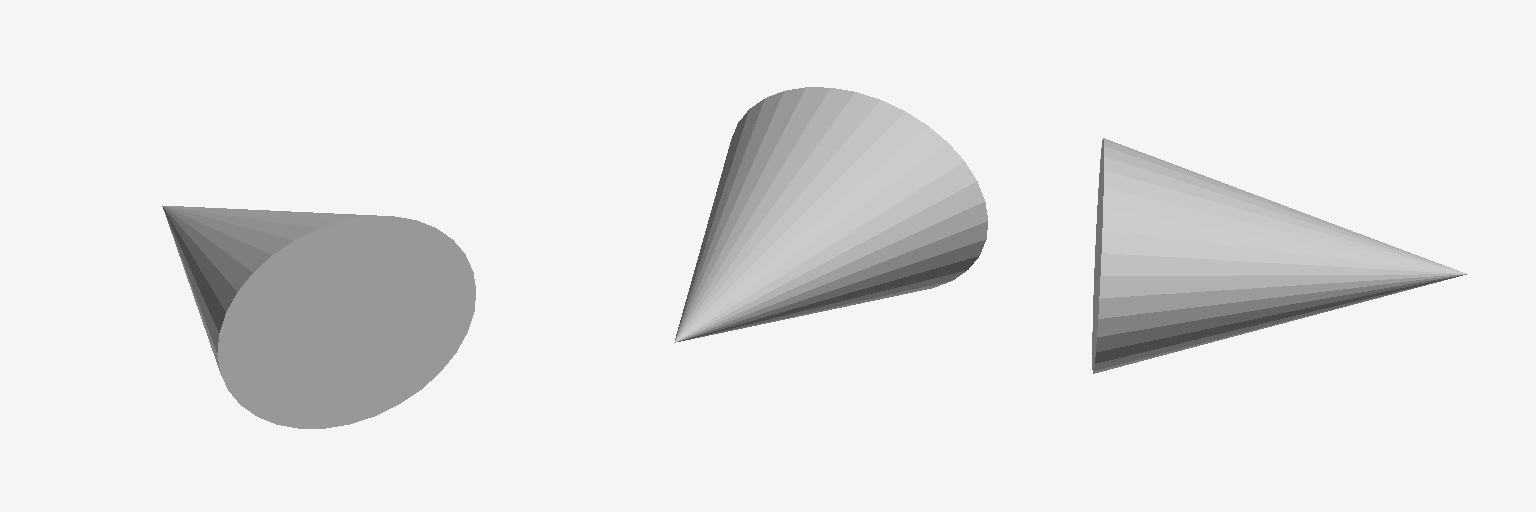
Rendered from wandererHead.obj.
3 views of the same model, side by side, from view 1: azimuth 30°, elevation 25°; view 2: azimuth 150°, elevation 25°; view 3: azimuth 270°, elevation 25° (orthographic).
Visible parts, largest first — view 1: Cone; view 2: Cone; view 3: Cone.
Part boxes in pixels (left/top/right/bottom): Cone: left=162, top=206, right=475, bottom=428; Cone: left=674, top=87, right=987, bottom=342; Cone: left=1092, top=138, right=1466, bottom=373.
Bounding box in the file's own units: 2.43 × 1.78 × 3.04.